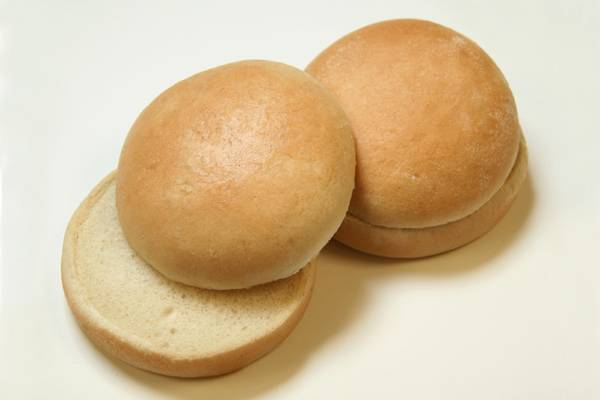hamburger_buns: (46, 49, 360, 388), (259, 13, 547, 271)
